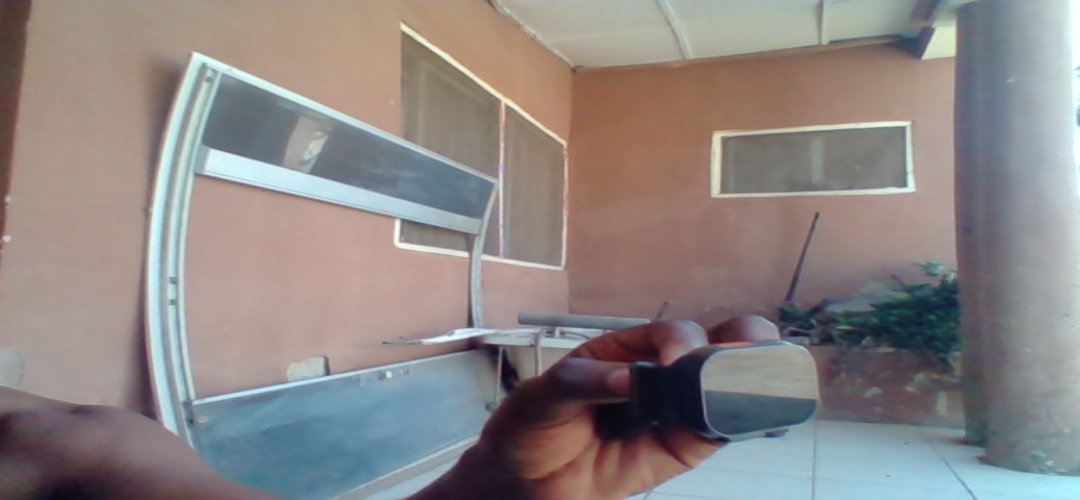smart_watch: (645, 340, 827, 442)
